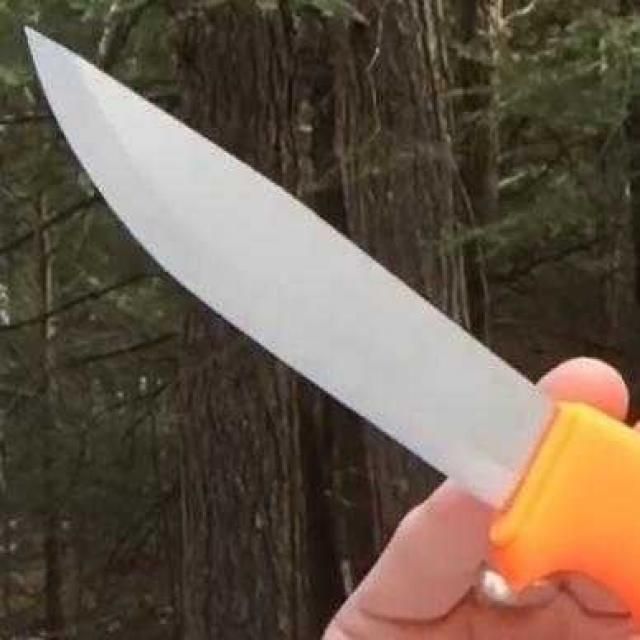Knife: (21, 16, 640, 622)
